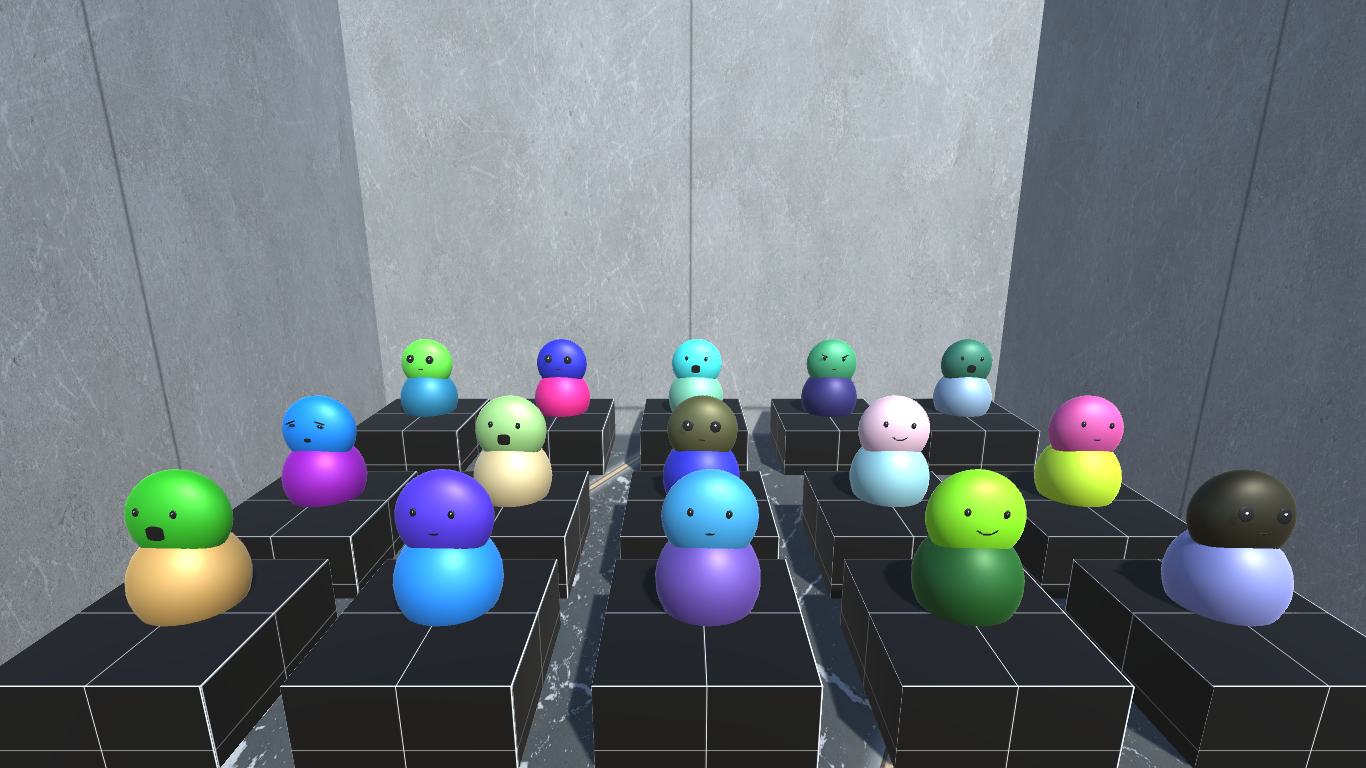blob_atento: (662, 396, 740, 452), (397, 335, 455, 385), (531, 332, 585, 382)
blob_entediado: (277, 390, 362, 455)
blob_feliz: (923, 463, 1028, 561), (854, 392, 933, 453)
blob_normal: (1182, 469, 1308, 558), (390, 468, 493, 554), (656, 470, 762, 553), (1043, 389, 1125, 457)
blob_raiva: (803, 333, 859, 381)
blob_surpreso: (118, 463, 234, 556), (470, 391, 544, 454), (668, 332, 723, 382), (938, 333, 991, 382)
